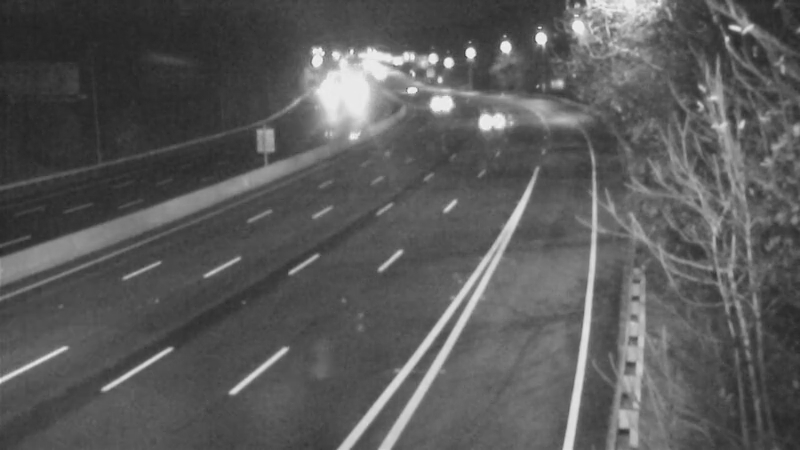vehicle: (390, 64, 440, 114), (410, 74, 460, 124), (460, 96, 510, 146)
